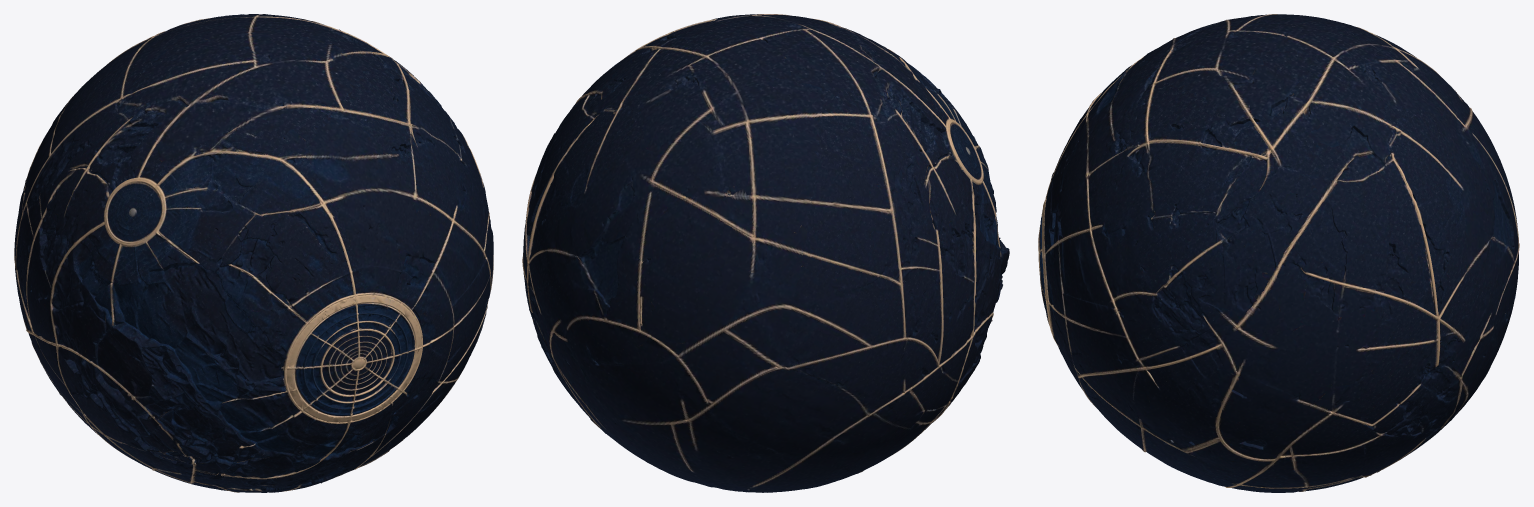
The model's file is projects.glb.
The picture shows the model from 3 angles, left to right: view 1: azimuth 30°, elevation 25°; view 2: azimuth 150°, elevation 25°; view 3: azimuth 270°, elevation 25°; orthographic projection.
Bounding box in the file's own units: 1.9 × 1.9 × 1.91.
1 material, 1 textured.
